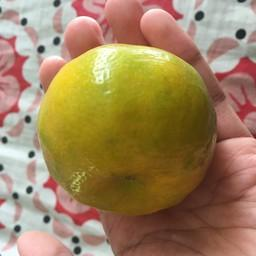Good_orange: (32, 33, 219, 215)
